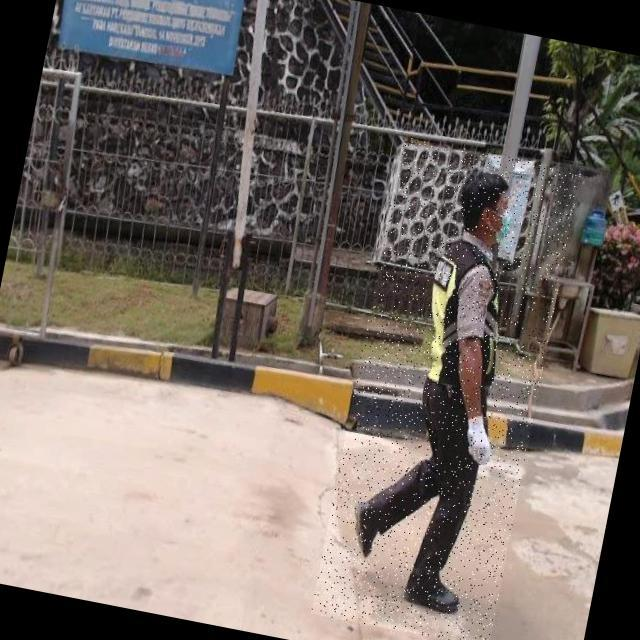Gloves: (457, 412, 499, 473)
Person: (324, 154, 538, 622)
Safety Boot: (398, 563, 466, 621), (345, 491, 390, 563)
Safety Vest: (414, 234, 521, 402)
no-helmet: (454, 165, 511, 198)
